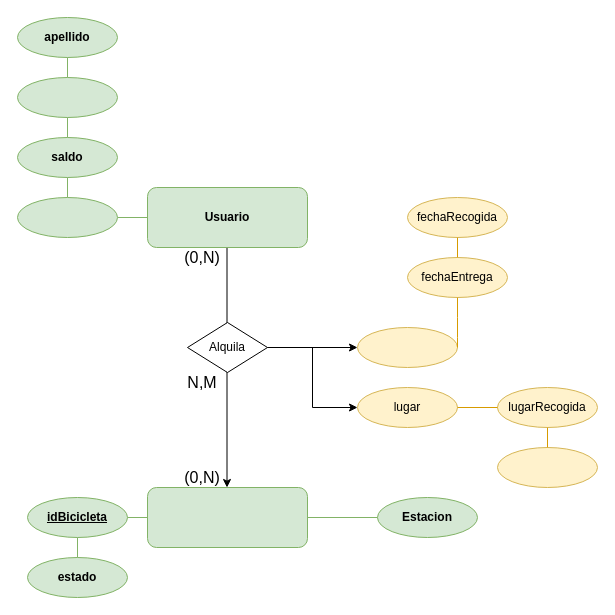
This 615x615 diagram has some shape labels left out. Here are the shapes that lost their labels. From the top down, the centre of each, then its label:
At (x=67, y=97): "nombre".
At (x=67, y=217): "idUsuario".
At (x=407, y=347): "fecha".
At (x=547, y=467): "lugarEntrega".
At (x=227, y=517): "Bicicleta".
